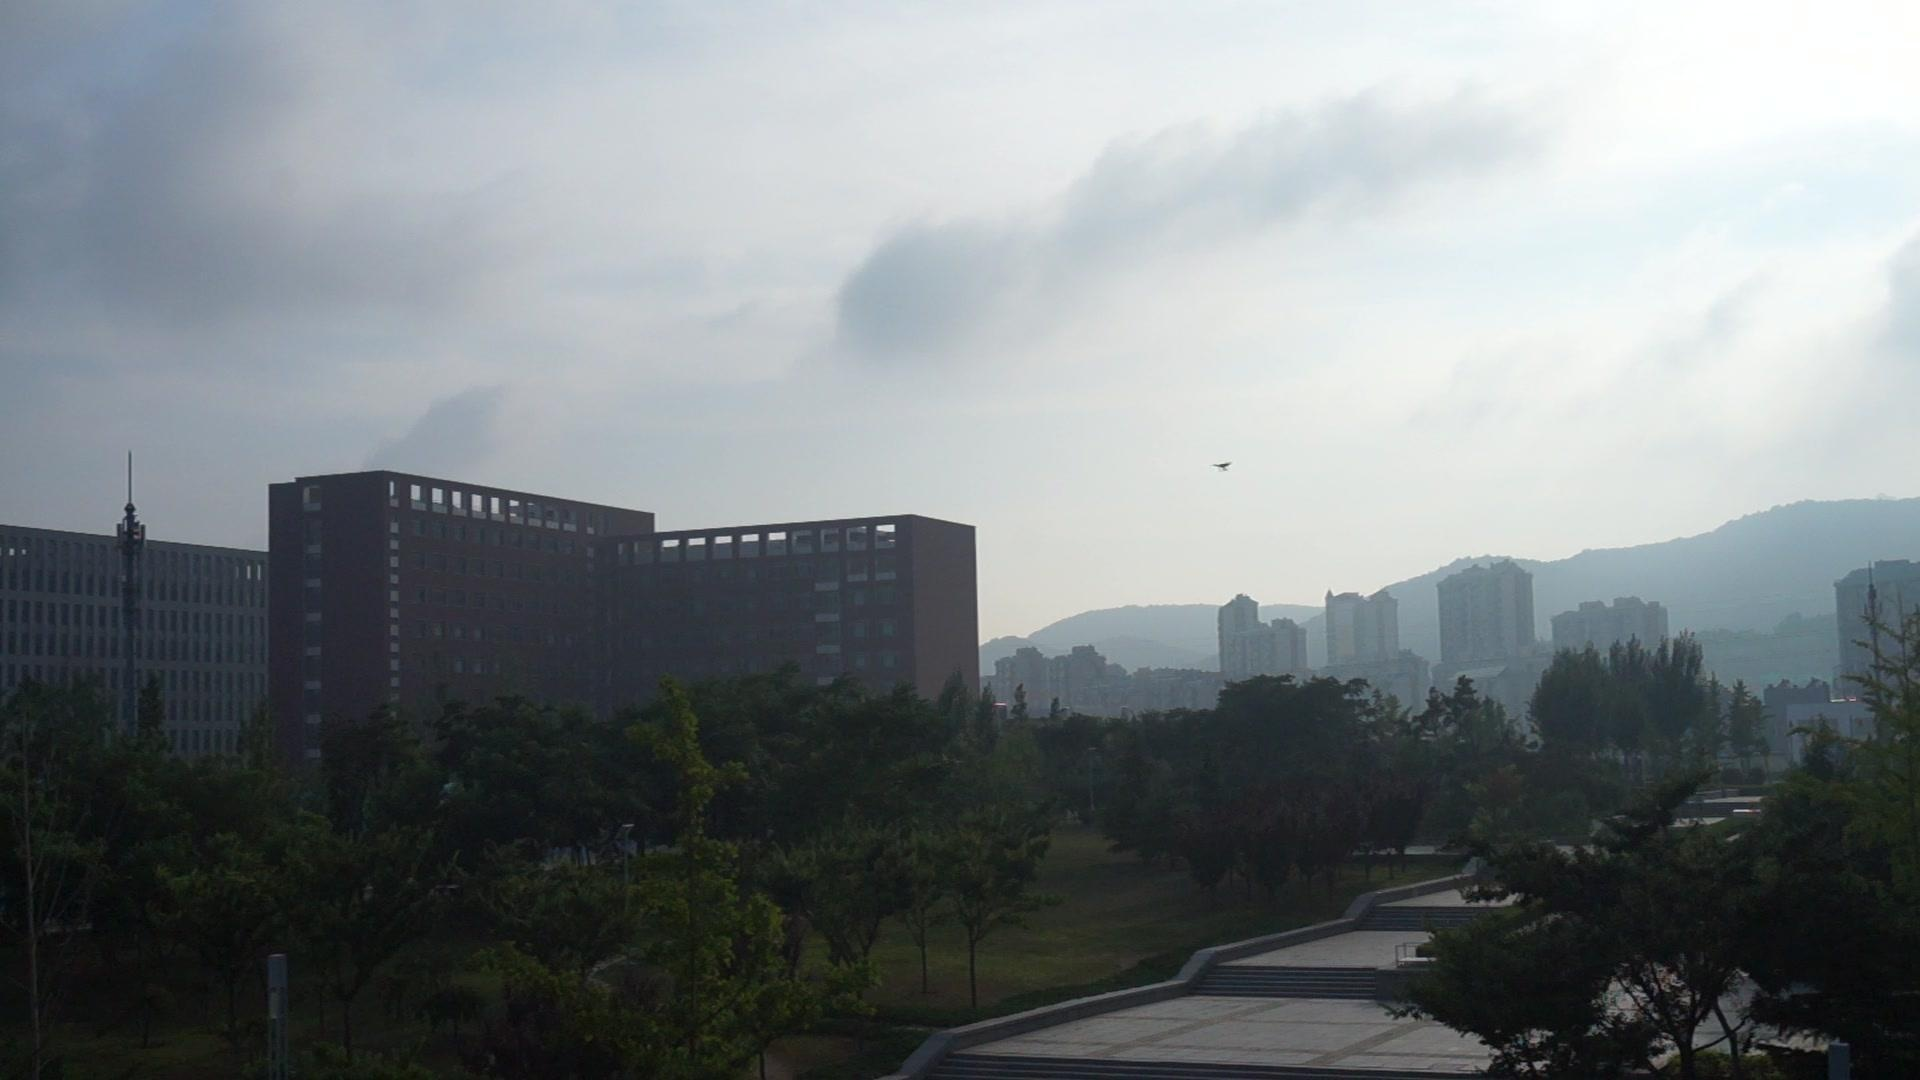UAV: (1211, 462, 1234, 473)
